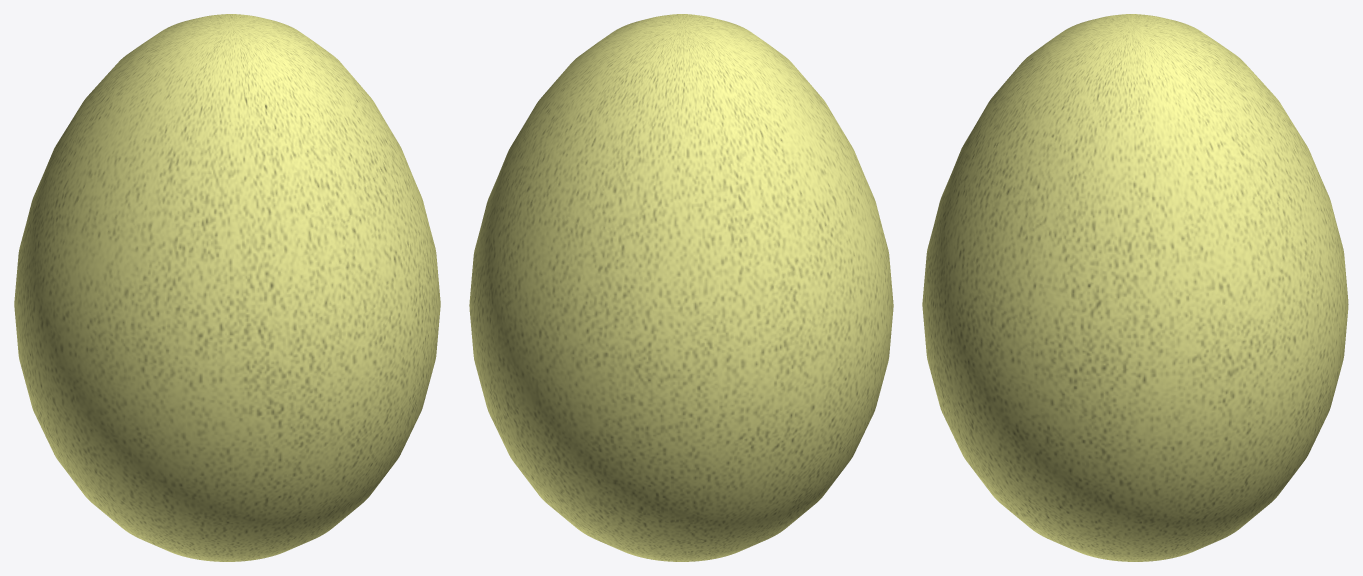
The model's file is DuckEggYellow.fbx.
3 renders of one model, left to right at view 1: azimuth 30°, elevation 25°; view 2: azimuth 150°, elevation 25°; view 3: azimuth 270°, elevation 25°, orthographic.
Parts seen in each view (by area): view 1: Sphere; view 2: Sphere; view 3: Sphere.
Boxes of the visible parts, x1,y1,x2,y2 form: Sphere: (14,14,440,561); Sphere: (469,14,893,561); Sphere: (922,14,1348,561).
Size of the model in its own units: 1.6 by 2.16 by 1.6.
